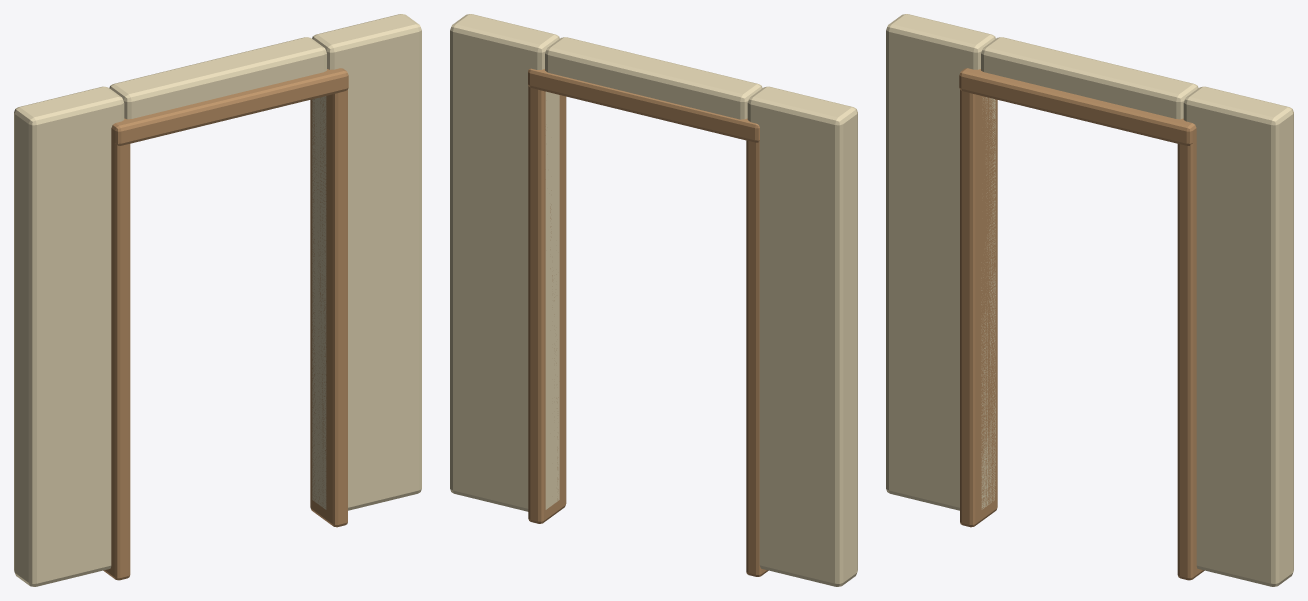
File: wall_door_plaster_2m.glb
3 renders of one model, left to right at view 1: azimuth 30°, elevation 25°; view 2: azimuth 150°, elevation 25°; view 3: azimuth 330°, elevation 25°, orthographic.
Visible parts, largest first — view 1: wall_door_plaster_2m; view 2: wall_door_plaster_2m; view 3: wall_door_plaster_2m.
Boxes of the visible parts, <box> form: wall_door_plaster_2m: <box>14,14,421,586</box>; wall_door_plaster_2m: <box>450,14,857,586</box>; wall_door_plaster_2m: <box>886,14,1293,586</box>.
Size of the model in its own units: 1.82 by 2.12 by 0.22.
